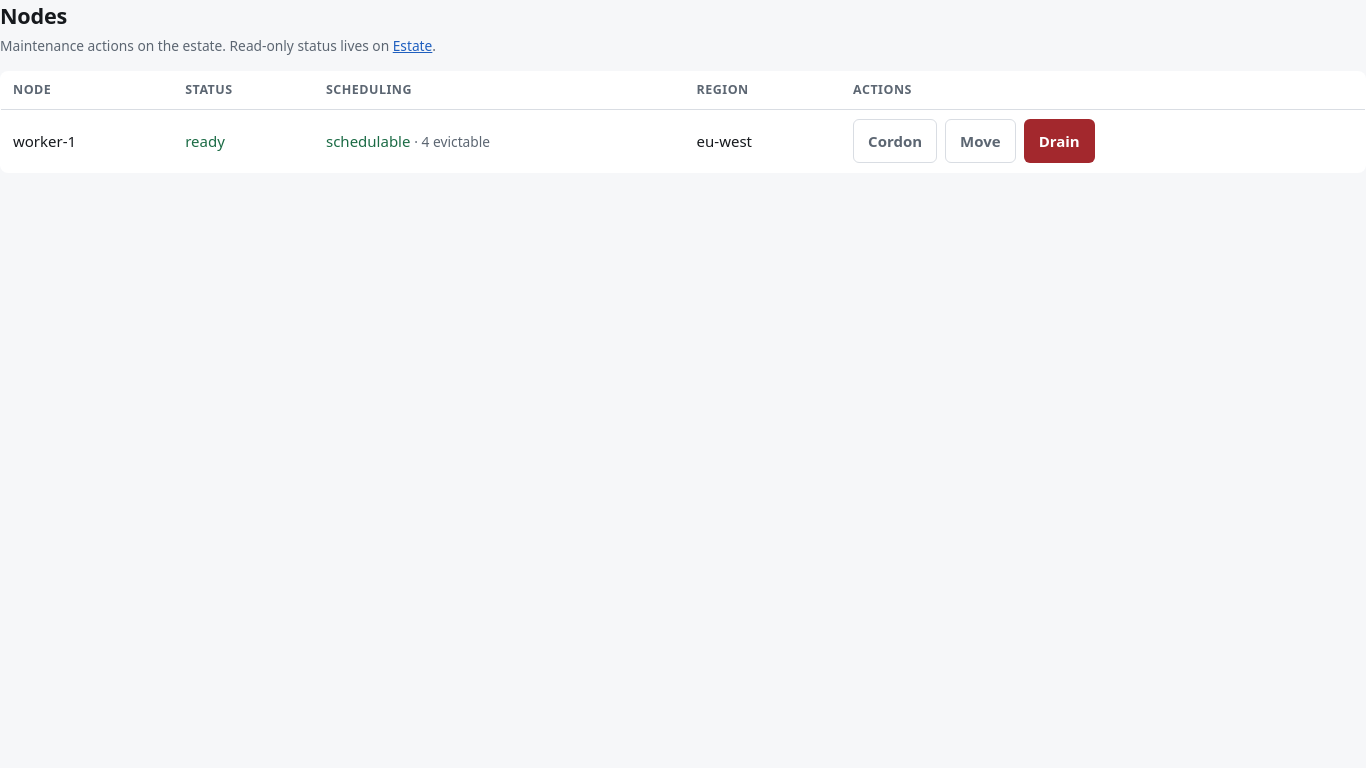
drain requires the node name to be typed › does not report the drain as finished
The width and height of the screenshot is (1366, 768).
Click the button "Drain". click: [1059, 141]
box: [1024,119,1095,163]
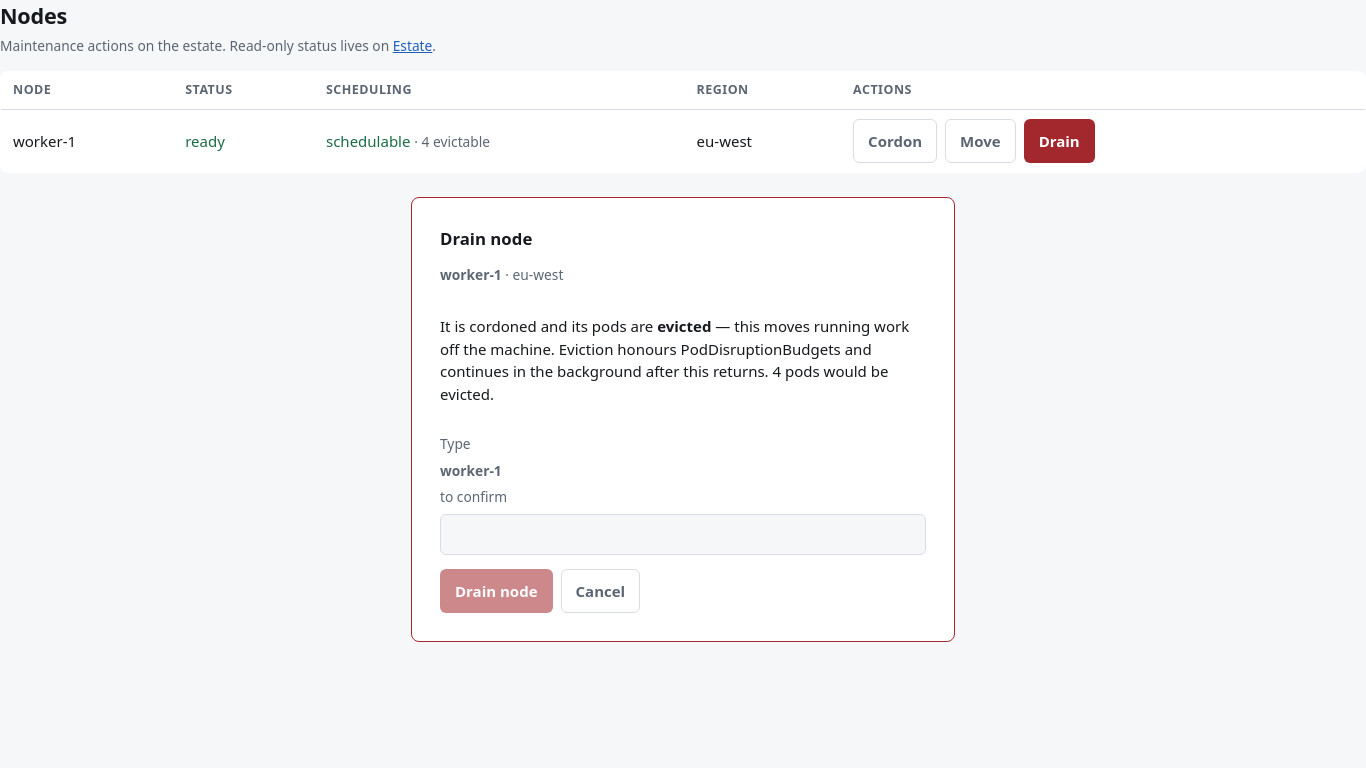
Type "worker-1" into the field named "confirm-name". click: [683, 534]
box: [440,514,926,555]
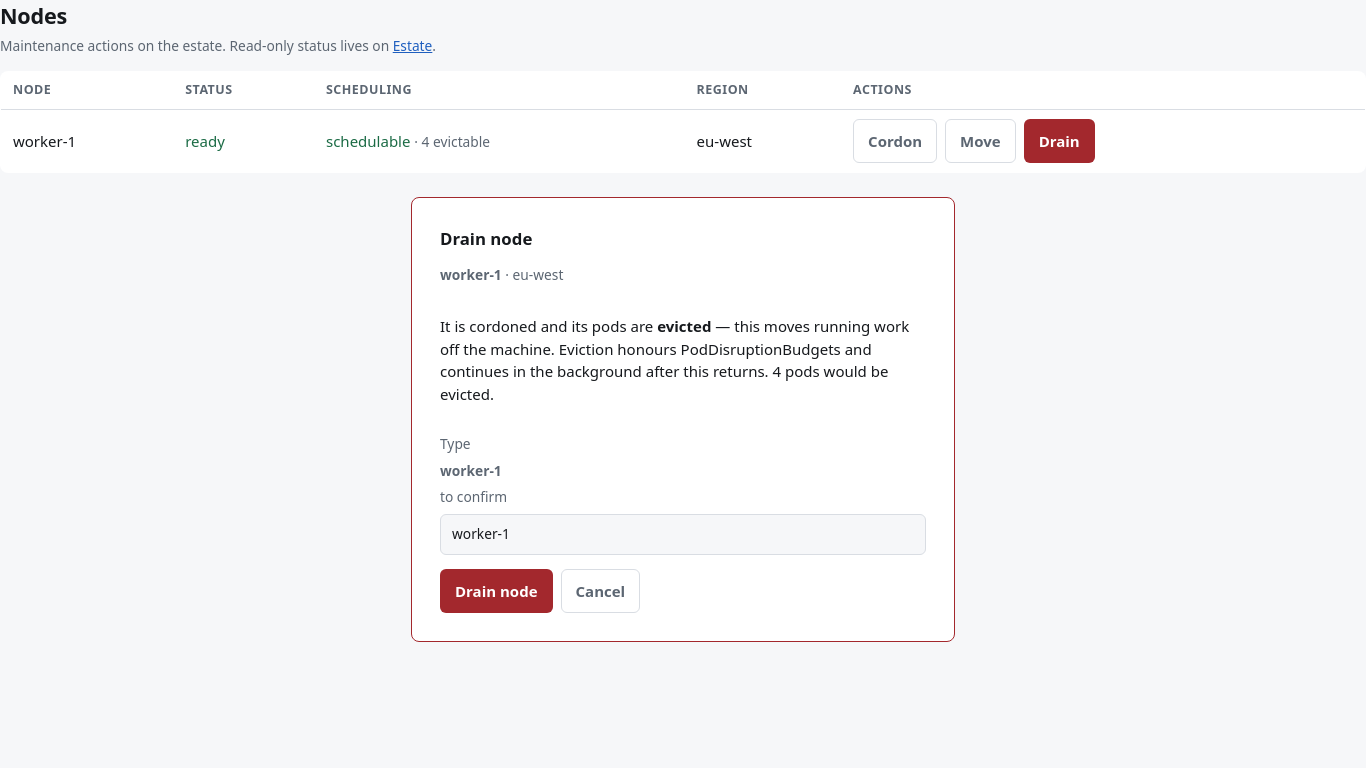
Click the button "Drain node". click: [496, 591]
box: [440,569,552,613]
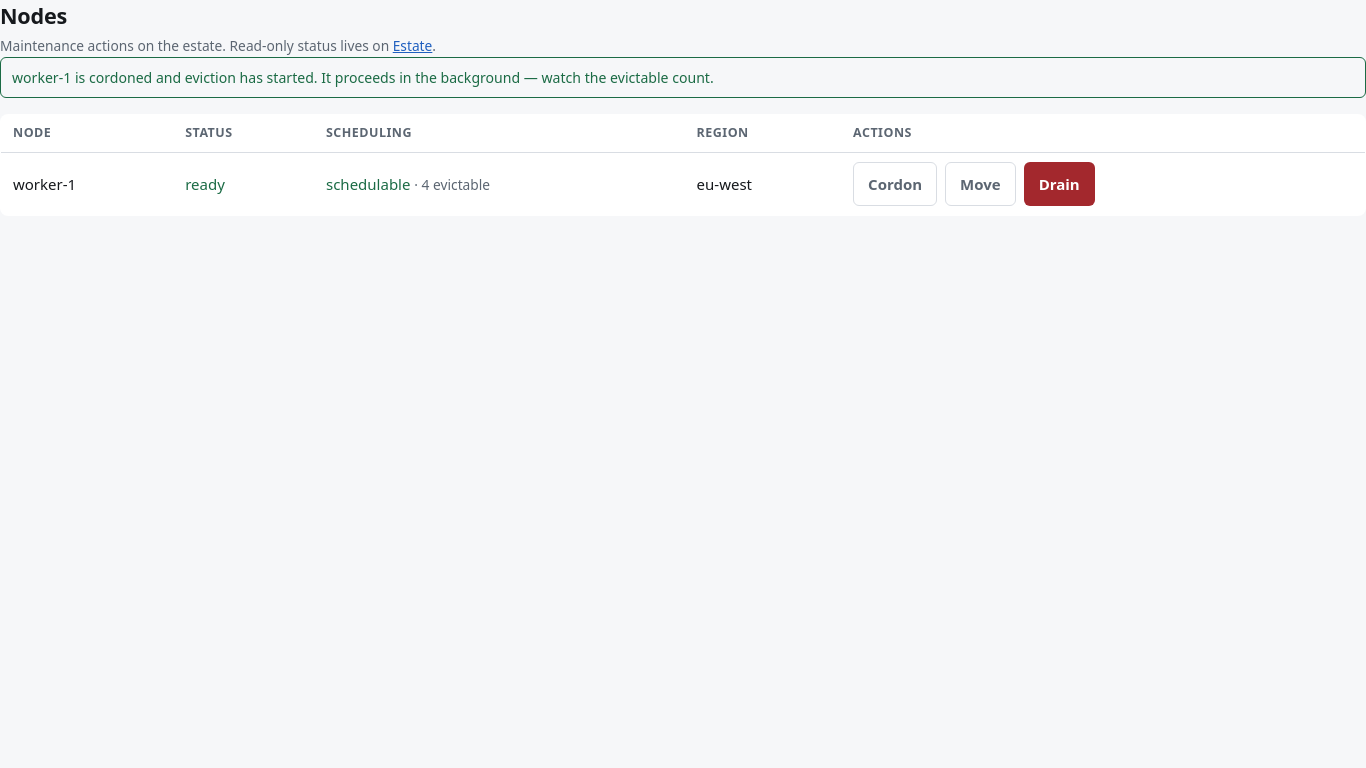
Now the message shows "background", box [12,68,714,87]
